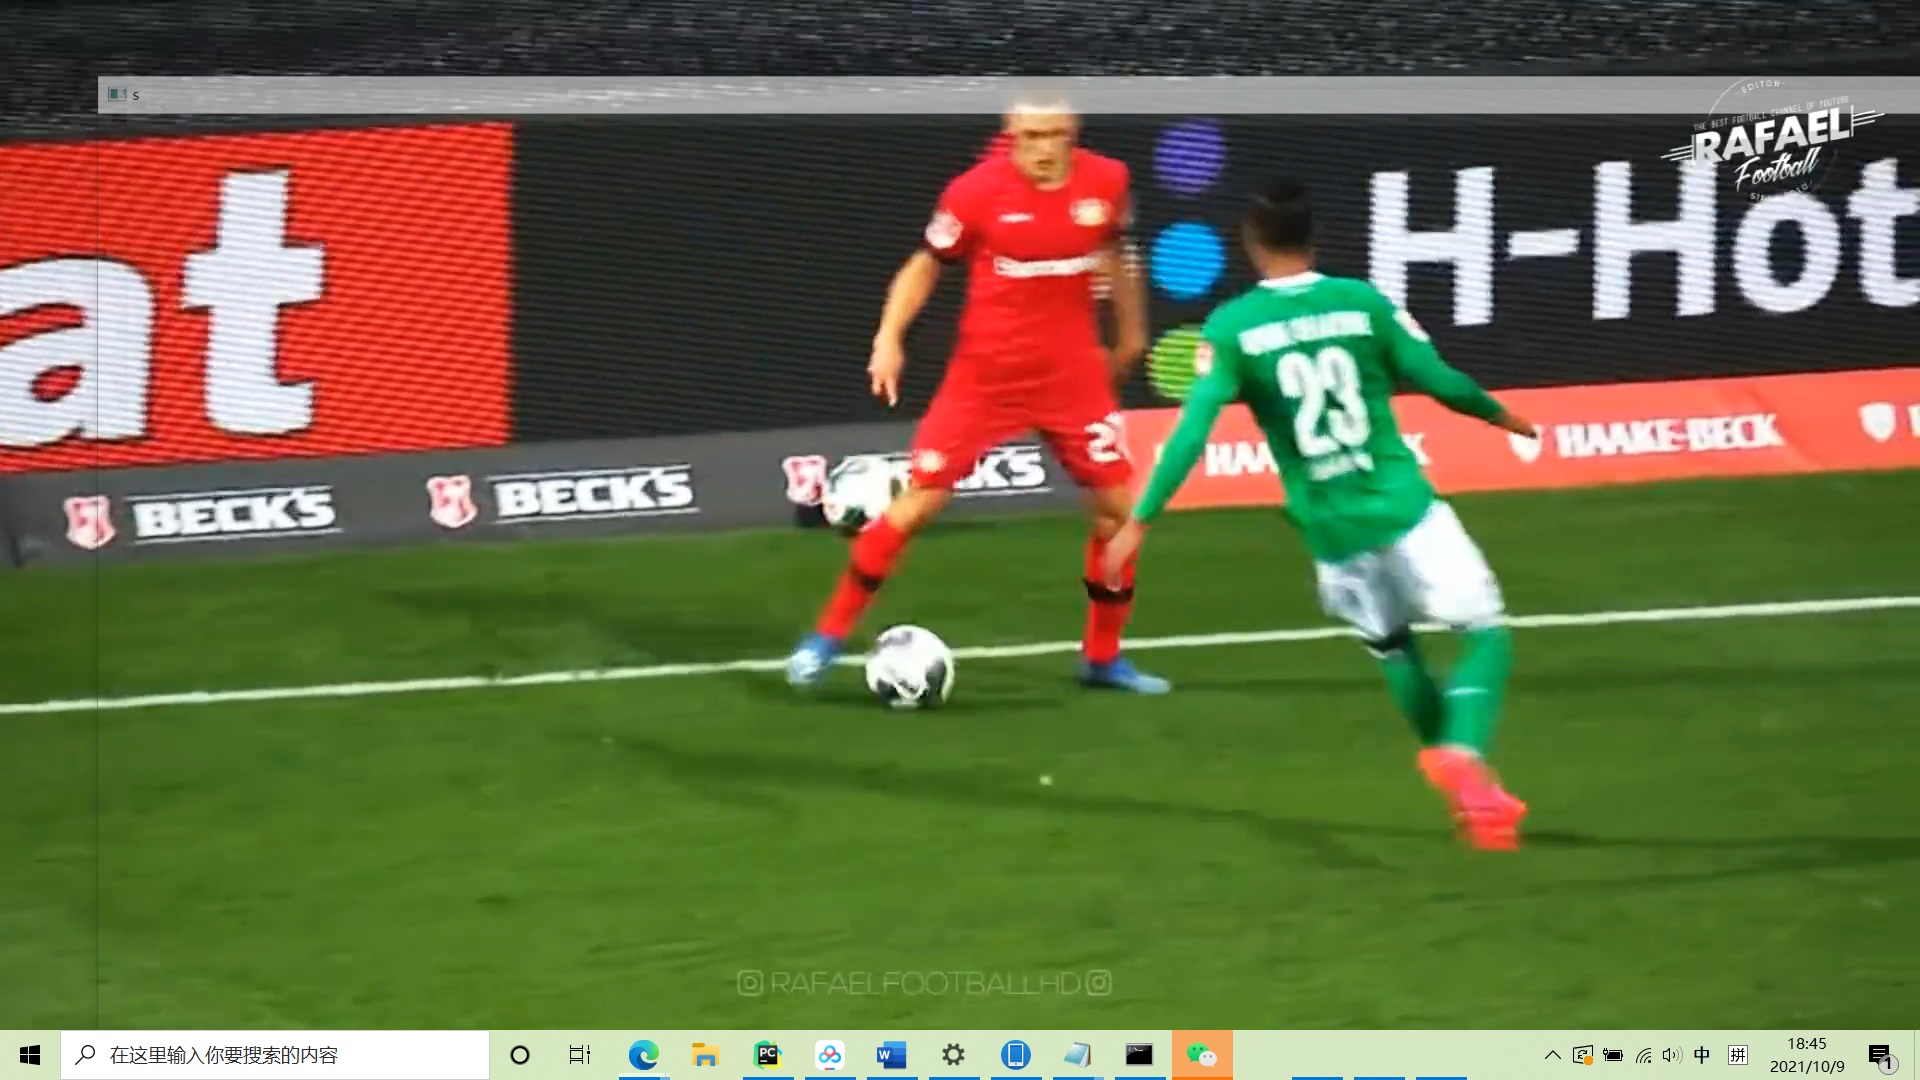ft: (862, 624, 963, 713)
